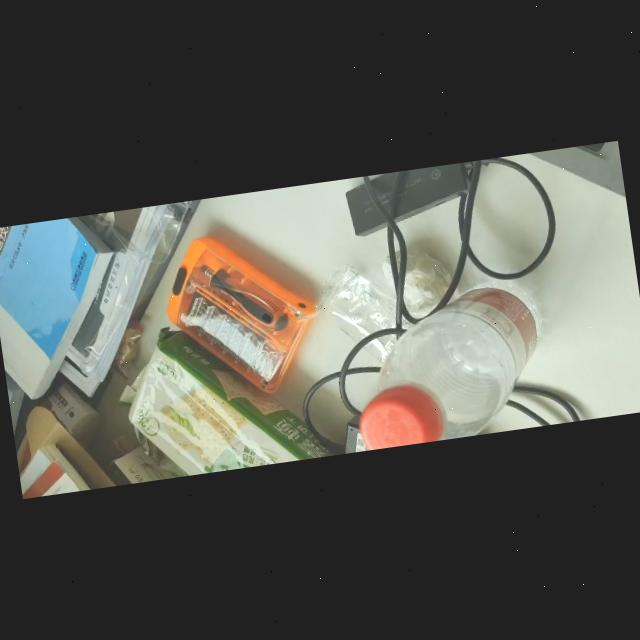trash: (338, 274, 552, 452)
